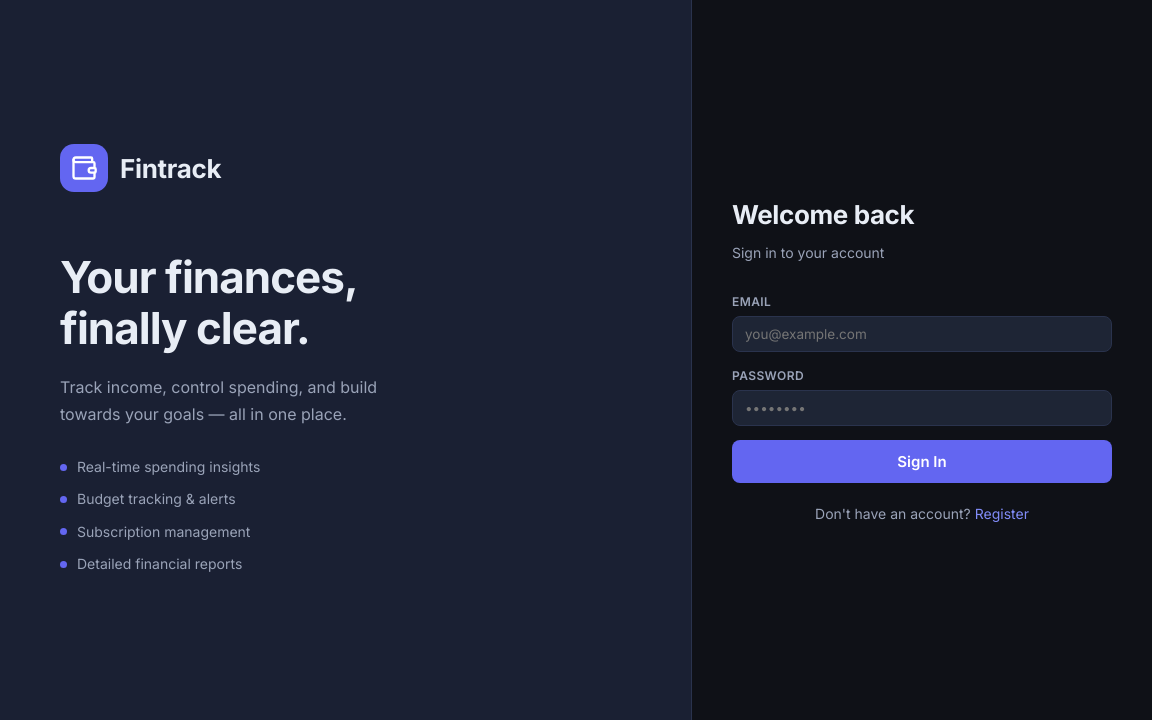
Scenario: sign in › a wrong password shows the error message from the server
Type "martina@example.com" into the field with placeholder "you@example.com". click: (922, 334)
box: [732,316,1112,352]
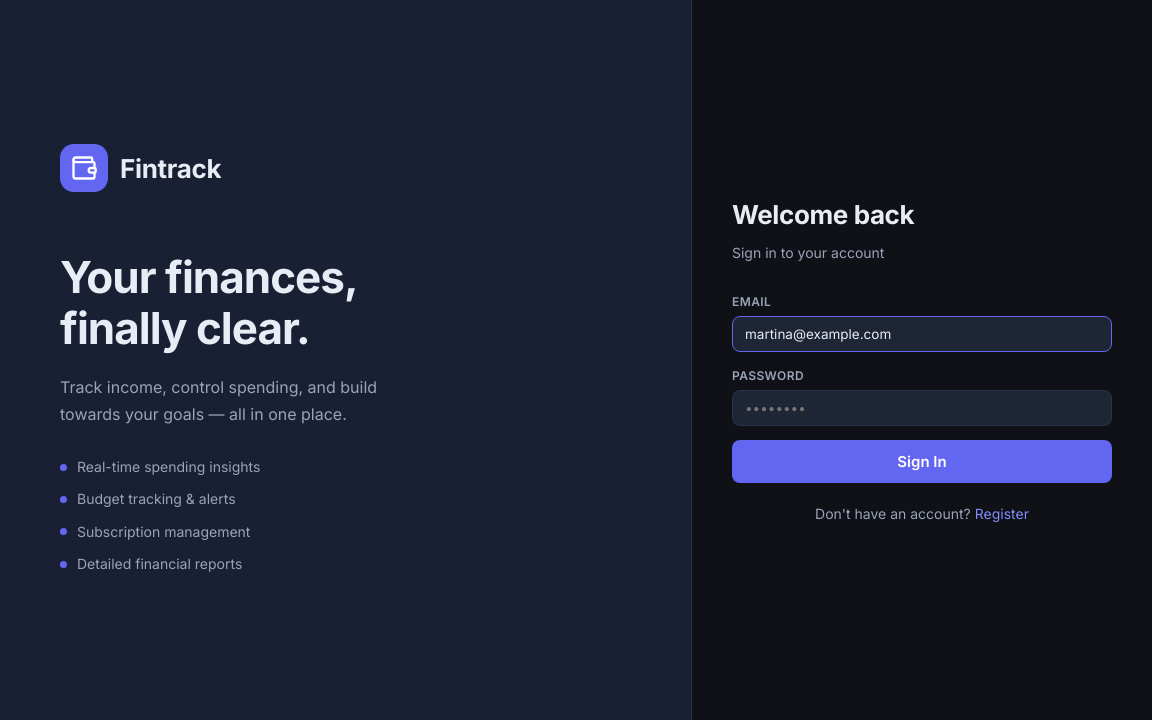
Type "wrong" into the password field with placeholder "••••••••". click: (922, 408)
box: [732,390,1112,426]
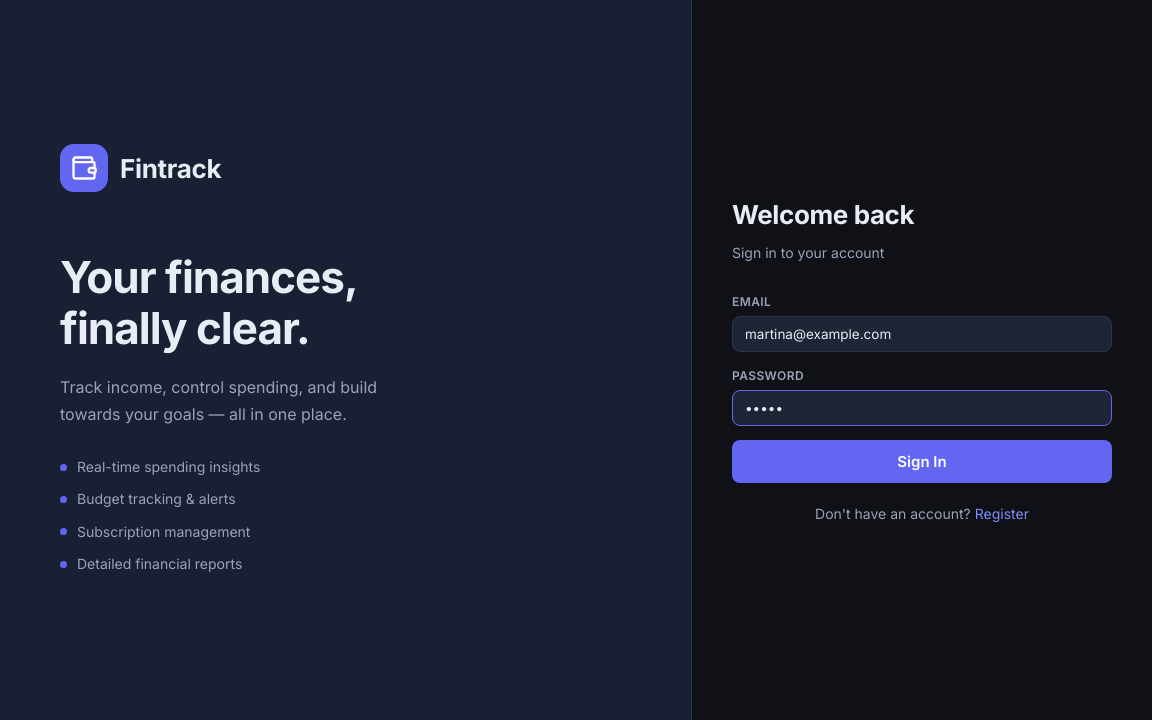
Click the button "Sign In". click: (922, 462)
box: [732,440,1112,484]
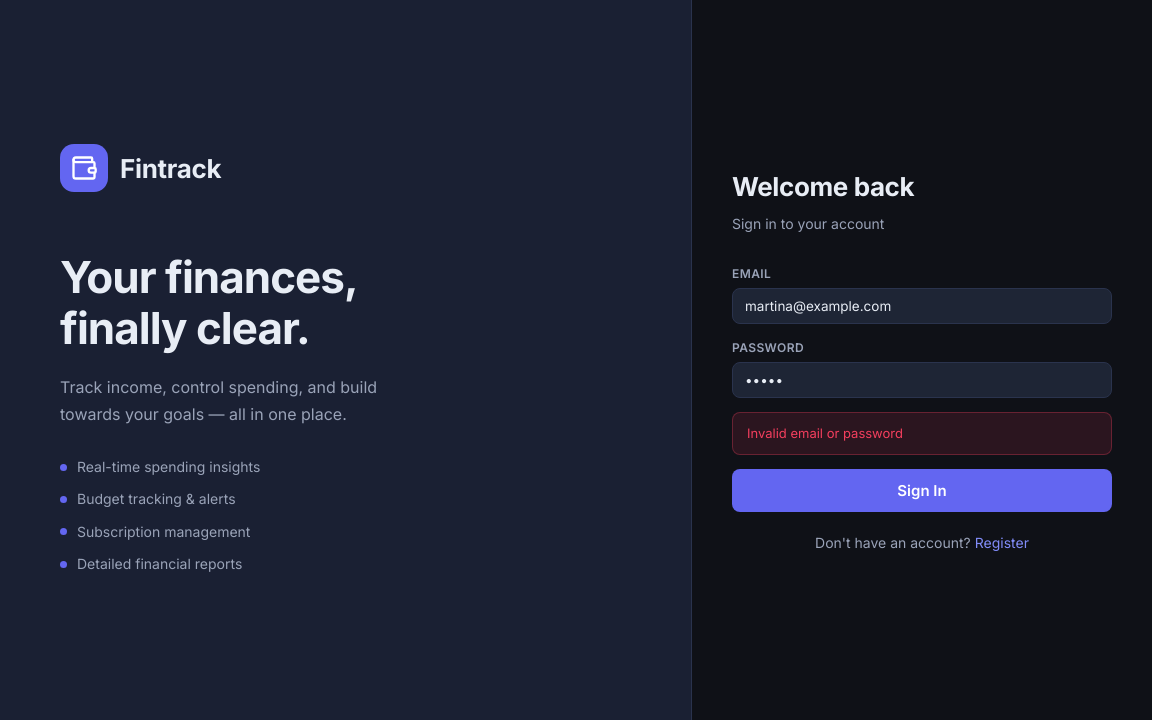
Expected: the text "Invalid email or password" is shown, [732,412,1112,455]
